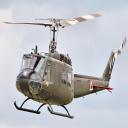helicopter: (3, 14, 128, 119)
